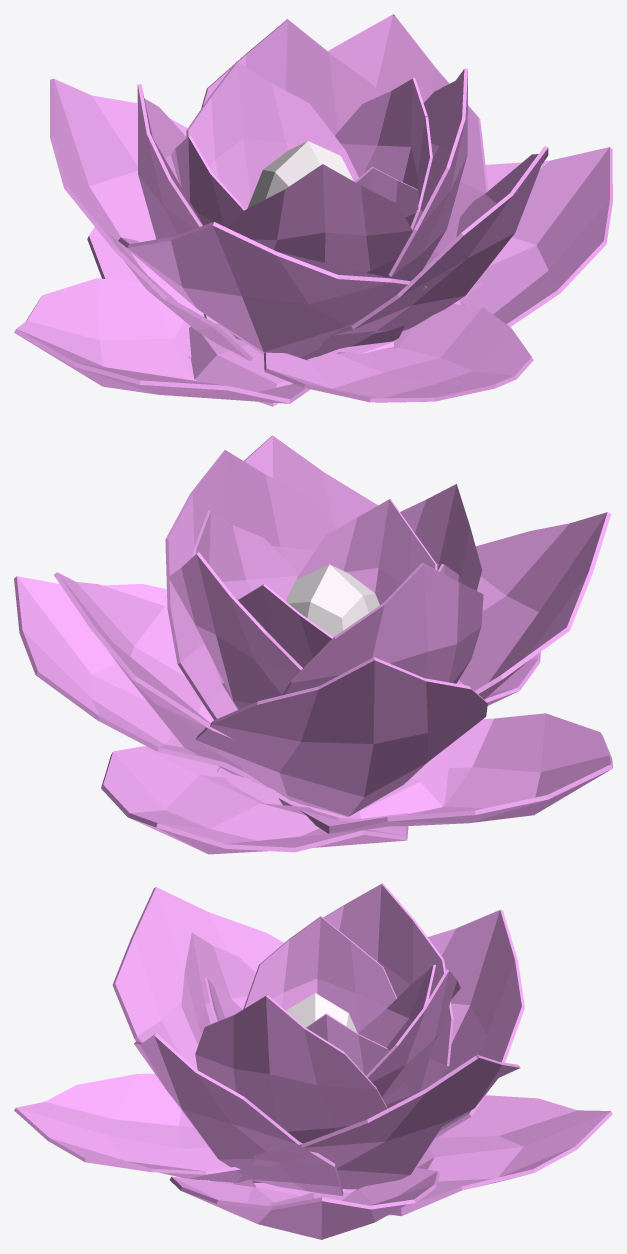
File: lotosolo.fbx
The picture shows the model from 3 angles, top to bottom: view 1: azimuth 30°, elevation 25°; view 2: azimuth 150°, elevation 25°; view 3: azimuth 270°, elevation 25°; orthographic projection. The views are drawn at different scales.
Parts seen in each view (by area): view 1: Cube.005; view 2: Cube.005; view 3: Cube.005.
Boxes of the visible parts, box(x1,y1,x2,y2) form: Cube.005: box(14, 14, 612, 406); Cube.005: box(14, 435, 612, 854); Cube.005: box(14, 883, 612, 1239).
Size of the model in its own units: 127 by 61.98 by 126.
1 material, 1 textured.
